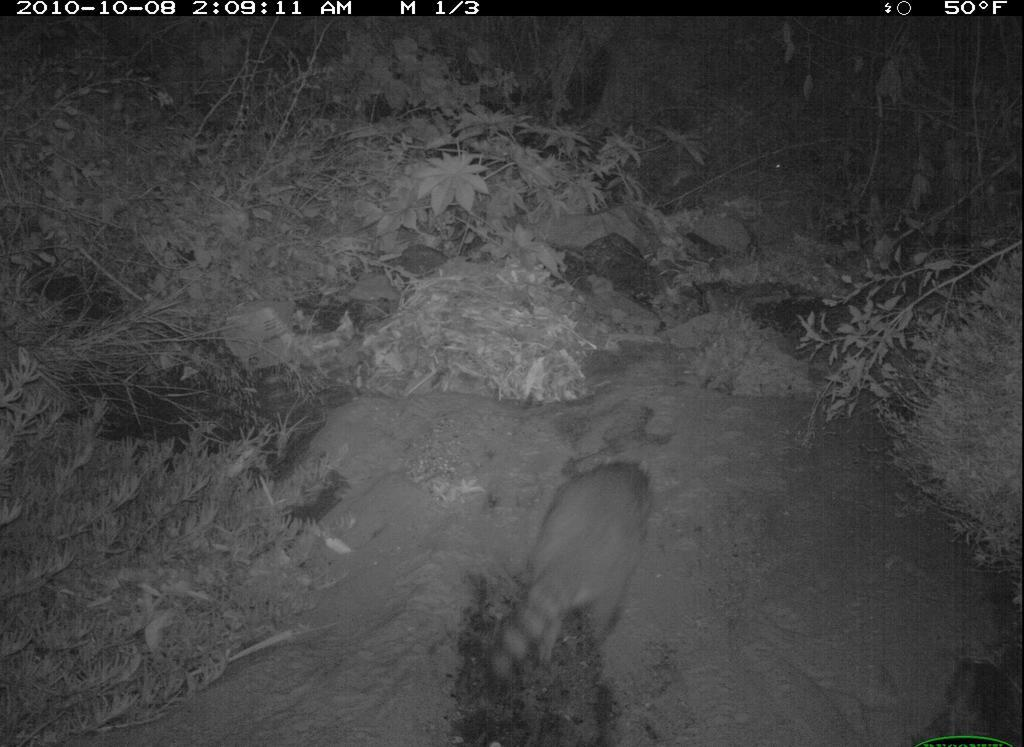raccoon: (481, 436, 680, 717)
